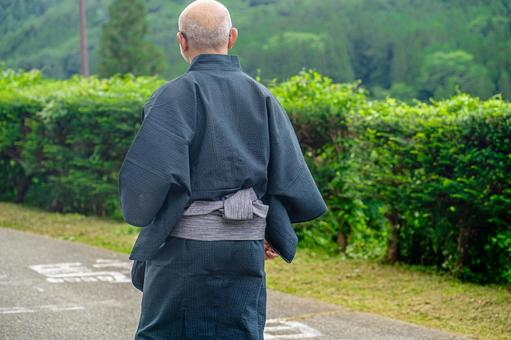male: (115, 1, 302, 340)
